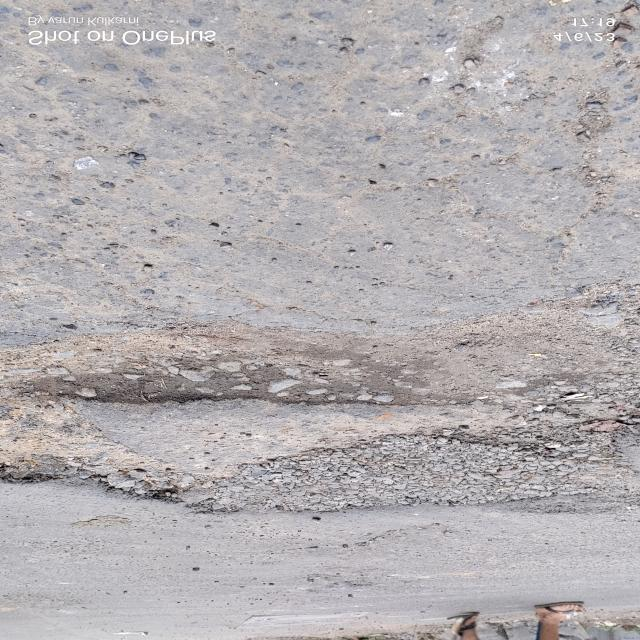potholes: (2, 316, 640, 528)
